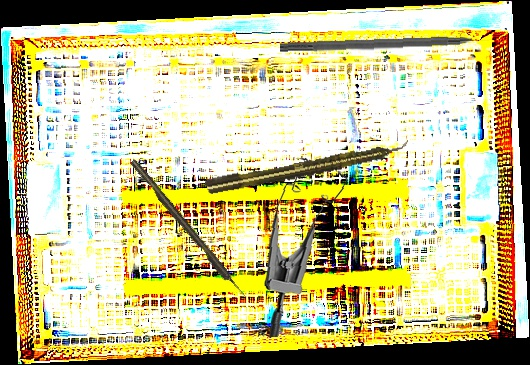Handpiece: (204, 138, 411, 197)
Hook Surgical: (129, 157, 248, 302), (279, 34, 498, 55)
Speculum: (256, 155, 358, 338)
